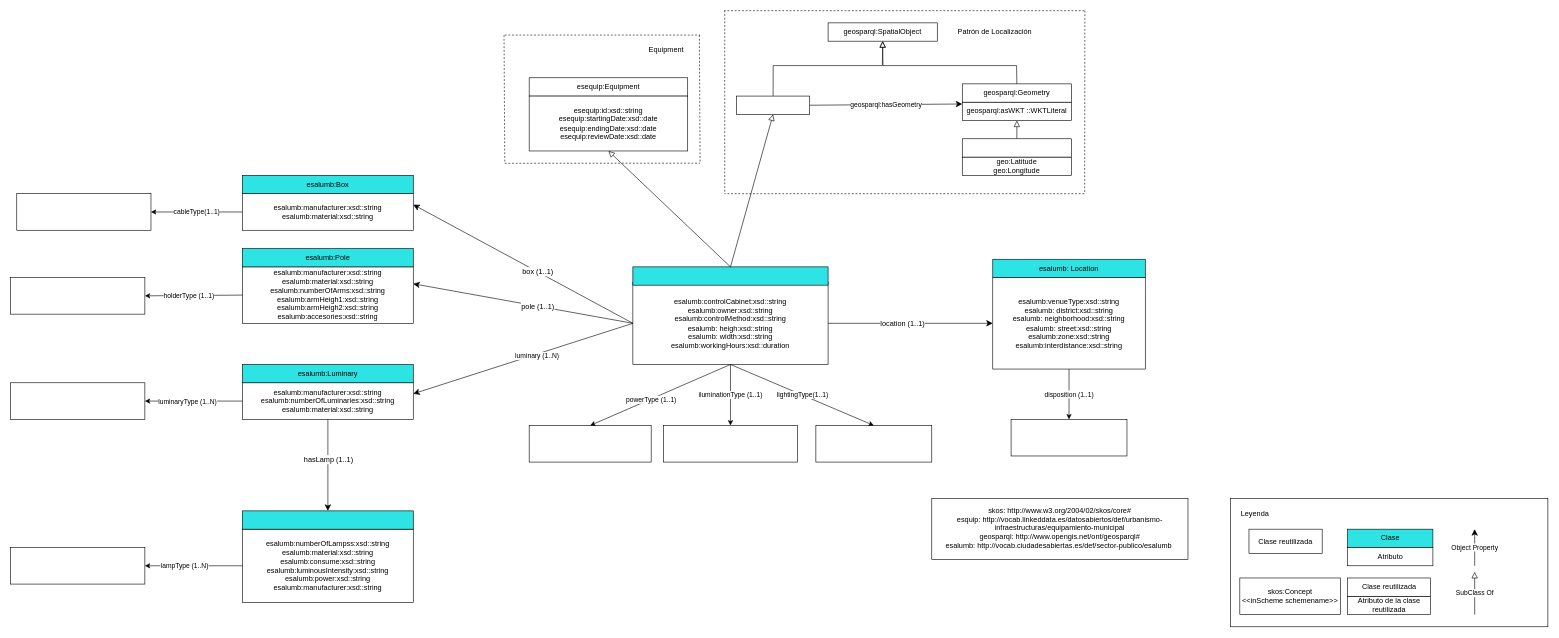
This 1559x638 diagram has some shape labels left out. The centre of each missing label's shape, as x and y in pixels:
"esalumb :Lamp" goes at point (327, 519).
"esalumb:streetlight" goes at point (730, 275).
"geosparql:Feature" goes at point (773, 104).
"geosparql:Point" goes at point (1016, 147).
"skos:Concept<<inScheme <<skos-esalumb:Disposition>>" goes at point (1068, 437).
"skos:Concept<<inScheme <<skos-esalumb:lightingType>>" goes at point (873, 443).
"skos:Concept<<inScheme<<skos-esalumb:cableType>>" goes at point (83, 211).
"skos:Concept<<inScheme<<skos-esalumb:holderType>>" goes at point (77, 295).
"skos:Concept<<inScheme<<skos-esalumb:iluminationType>>" goes at point (730, 443).
"skos:Concept<<inScheme<<skos-esalumb:lampType>>" goes at point (77, 565).
"skos:Concept<<inScheme<<skos-esalumb:luminaryType>>" goes at point (77, 400).
"skos:Concept<<inScheme<<skos-esalumb:powerType>>" goes at point (590, 443).
